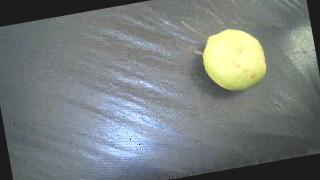DESECHO: (199, 24, 270, 96)
